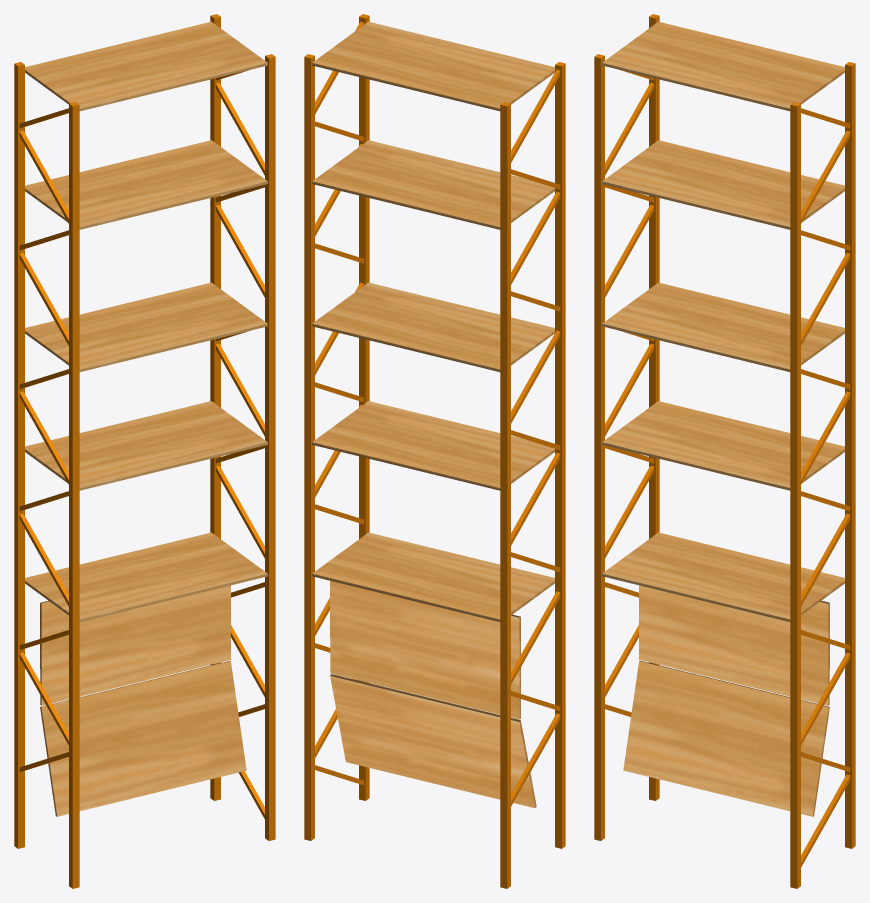
Rendered from Industrial_Rack_11.fbx.
The picture shows the model from 3 angles, left to right: view 1: azimuth 30°, elevation 25°; view 2: azimuth 150°, elevation 25°; view 3: azimuth 330°, elevation 25°; orthographic projection.
Visible parts, largest first — view 1: Industrial_Rack_11; view 2: Industrial_Rack_11; view 3: Industrial_Rack_11.
Boxes of the visible parts, box(x1,y1,x2,y2) form: Industrial_Rack_11: box(14, 14, 275, 888); Industrial_Rack_11: box(304, 14, 565, 888); Industrial_Rack_11: box(594, 14, 855, 888).
Bounding box in the file's own units: 2 × 7.37 × 1.
